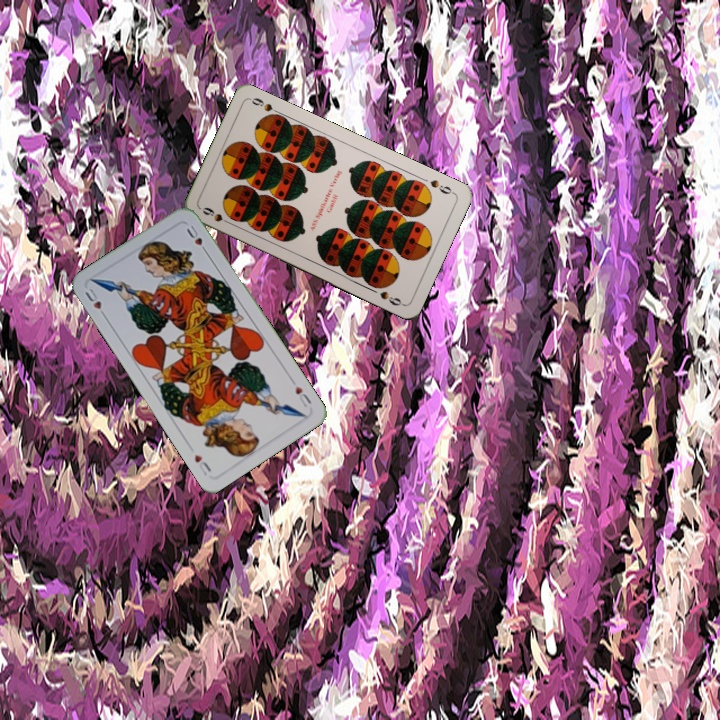HU: (81, 284, 109, 321), (287, 375, 314, 410)
S9: (198, 203, 235, 227), (426, 175, 457, 197)
